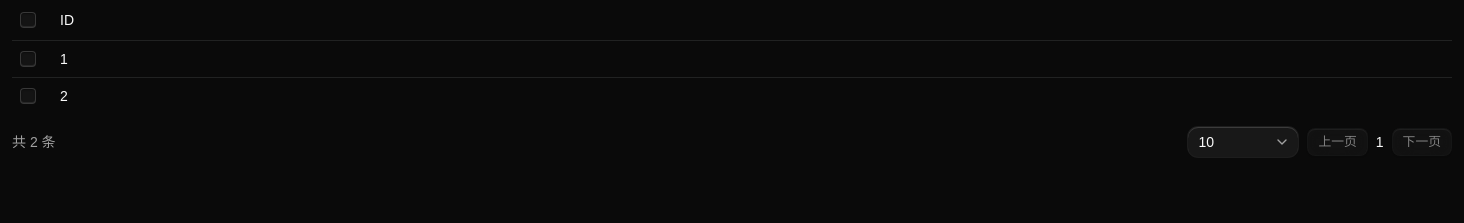
Test: ListPage › selection supports select-all and batch bar
What coordinates should you click on to do the following:
click the checkbox named "全选"
I would click on:
 (28, 20)
Its box is 20,12 -> 36,28.
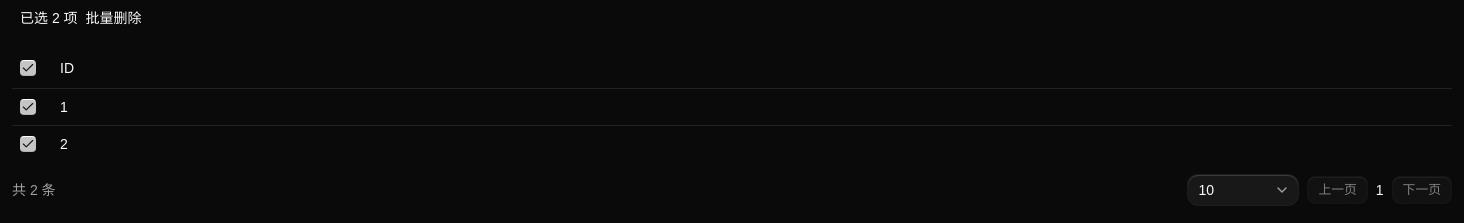
Now the text "已选 2 项" is shown, box 20,8 -> 142,28
Now the button "批量删除" is shown, box 86,8 -> 142,28
